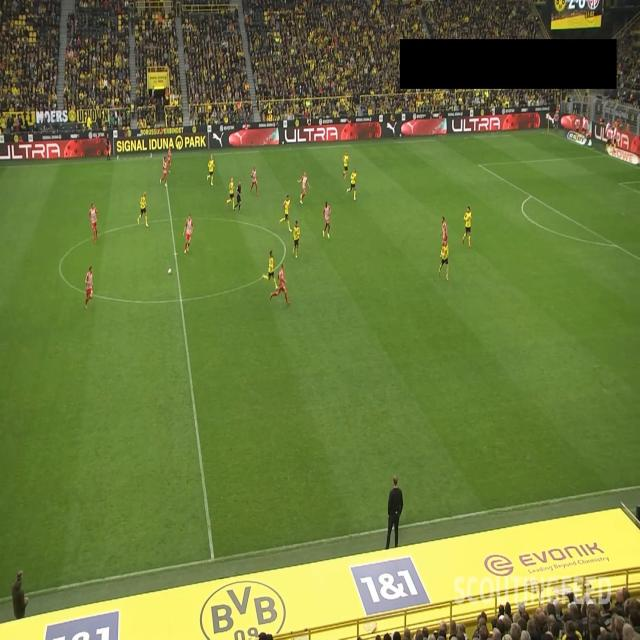ball: (167, 268, 172, 275)
